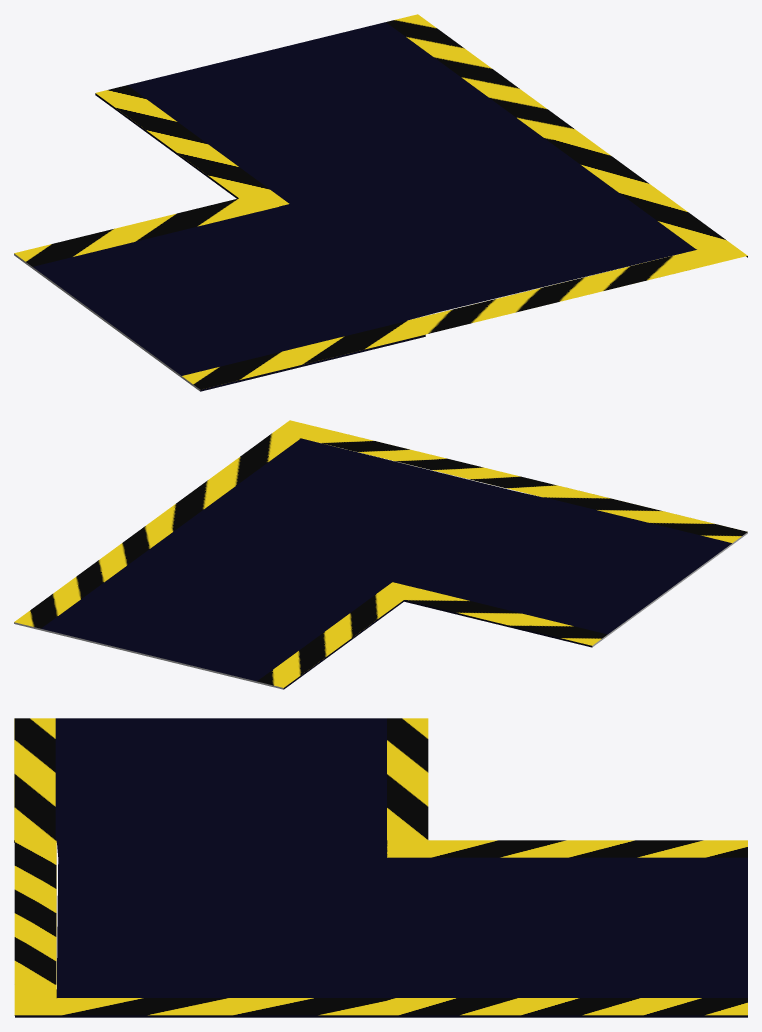
Rendered from caution_tape_angled.mtl.obj.
3 views of the same model, one above another, from view 1: azimuth 30°, elevation 25°; view 2: azimuth 150°, elevation 25°; view 3: azimuth 270°, elevation 25° (orthographic). The views are drawn at different scales.
Parts seen in each view (by area): view 1: Cube.003, Cube.002, Cube.001; view 2: Cube.003, Cube.002, Cube.001; view 3: Cube.003, Cube.002, Cube.001.
Part boxes in pixels (x1,y1,x2,y2): Cube.003: (258,133,747,334); Cube.002: (95,14,579,336); Cube.001: (14,198,425,391); Cube.003: (150,420,558,588); Cube.002: (14,523,418,689); Cube.001: (404,486,747,647); Cube.003: (14,840,387,1017); Cube.002: (14,840,747,1017); Cube.001: (14,718,428,842).
Bounding box in the file's own units: 3.39 × 0.0123 × 3.55.
